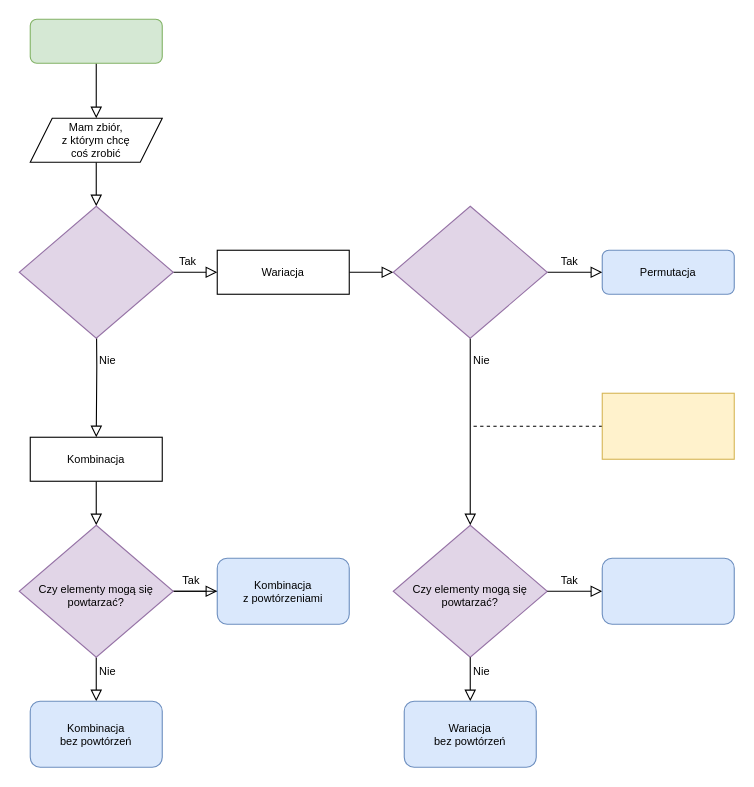
Image size: 754x787. Some labels were removed from this diagram. The centre of each missing label's shape, as x and y in pixels:
"Czy kolejność ma znaczenie?" goes at point 95,271.
"Czy używam wszystkich elementów zbioru?" goes at point 469,271.
"START" goes at point 95,40.
"W pewnym sensie to najpierw kombinacja, a potem permutacja" goes at point 667,425.
"Wariacja z powtórzeniami" goes at point 667,590.
